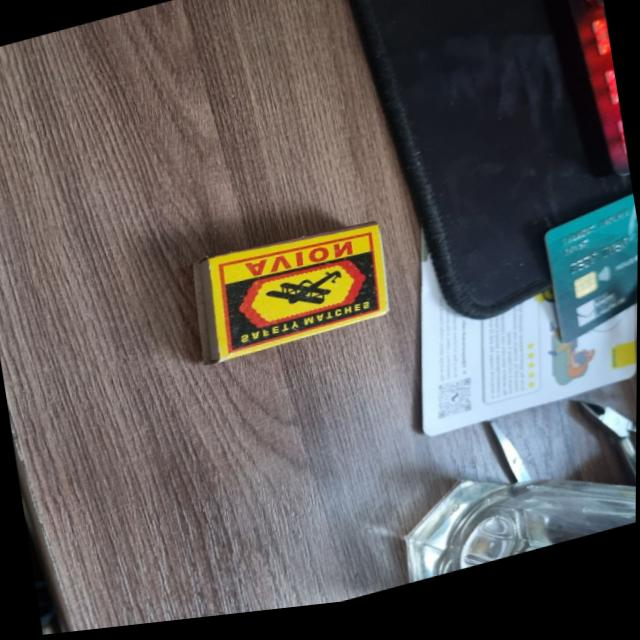match: (182, 214, 397, 376)
